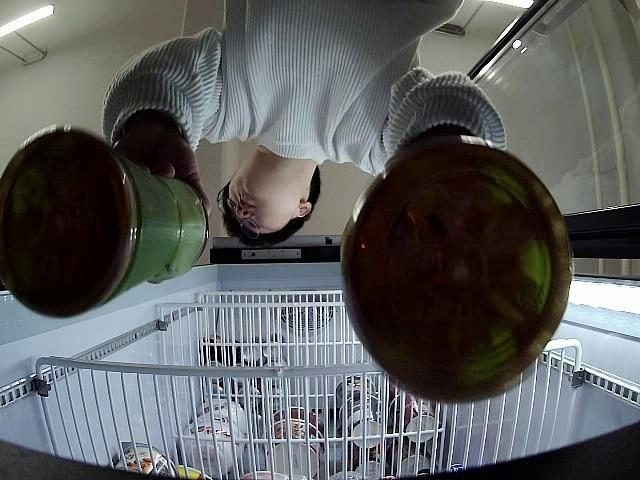19_17cha: (0, 126, 209, 318)
